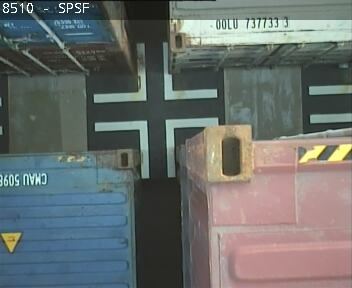groundmarker_1: (94, 115, 218, 179), (94, 40, 218, 103)
